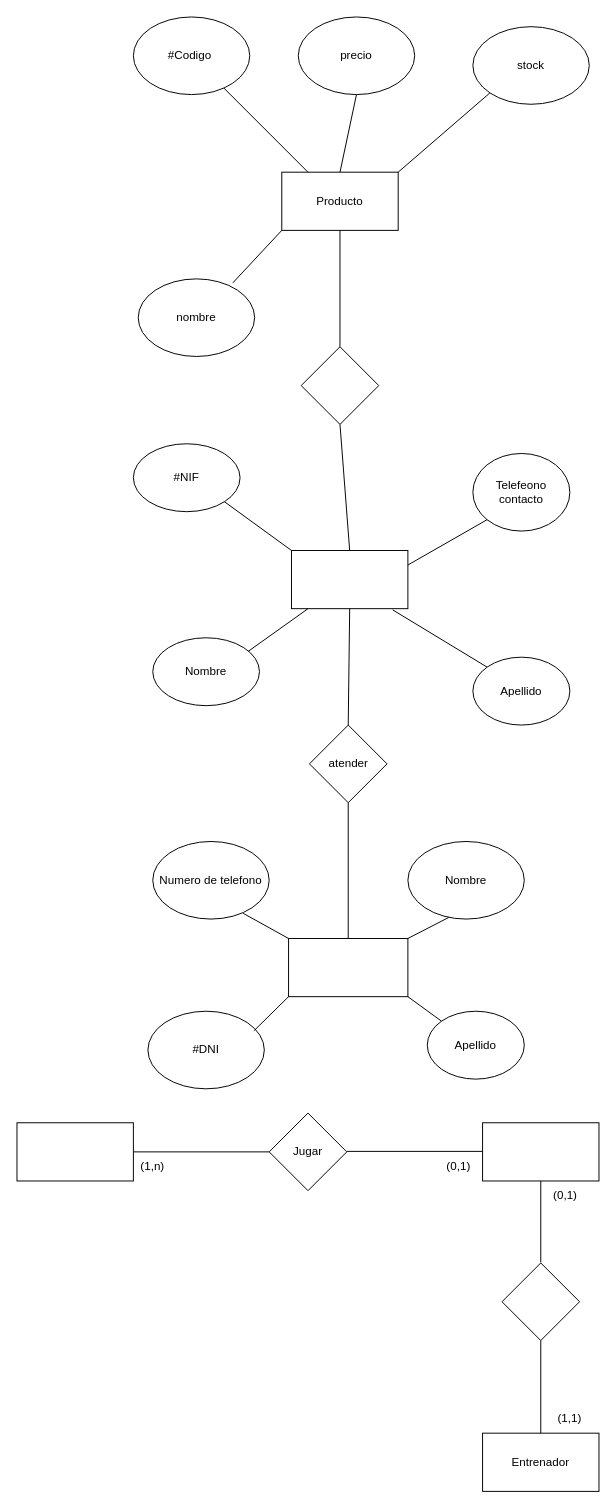
This 616x1508 diagram has some shape labels left out. The shapes that lost their labels are listed below. From the top down, each one's centre as x and y in pixels, then its label:
At [339,385]: "comprar".
At [349,579]: "Clientes".
At [348,967]: "Vendedor".
At [74,1151]: "Jugador".
At [540,1151]: "Equipo".
At [540,1301]: "Entrenar".
